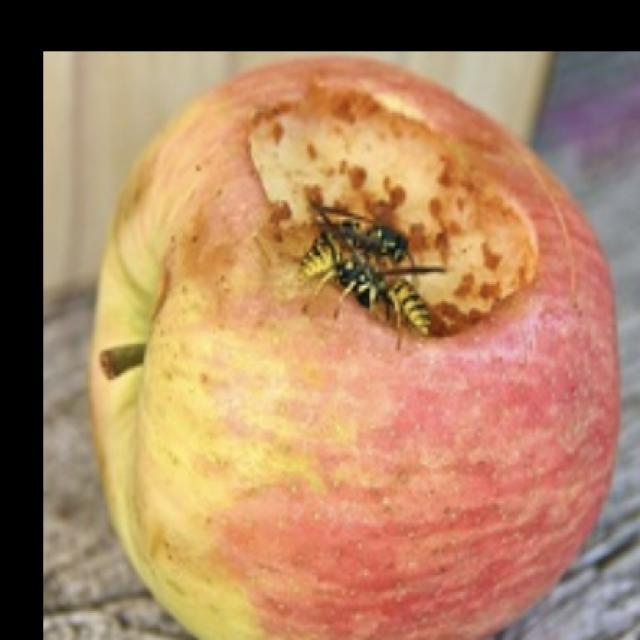Rotten: (105, 80, 618, 640)
